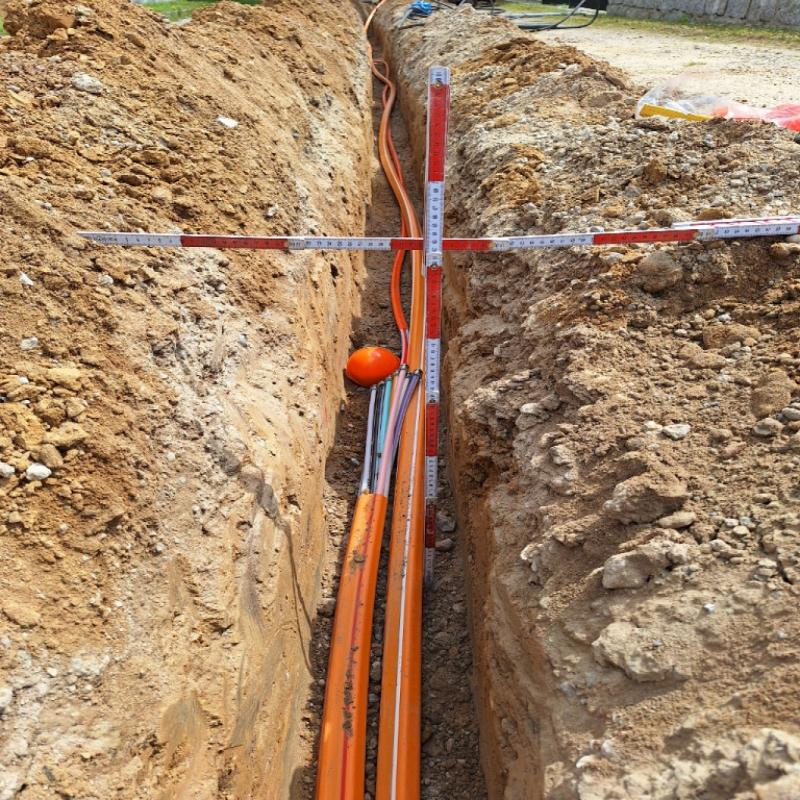Kugelmarker: (344, 346, 399, 386)
Orang-Speednetrohrchen: (316, 100, 427, 800)
